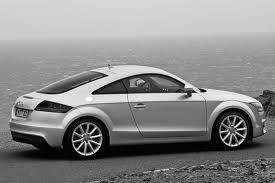car: (9, 61, 264, 161)
